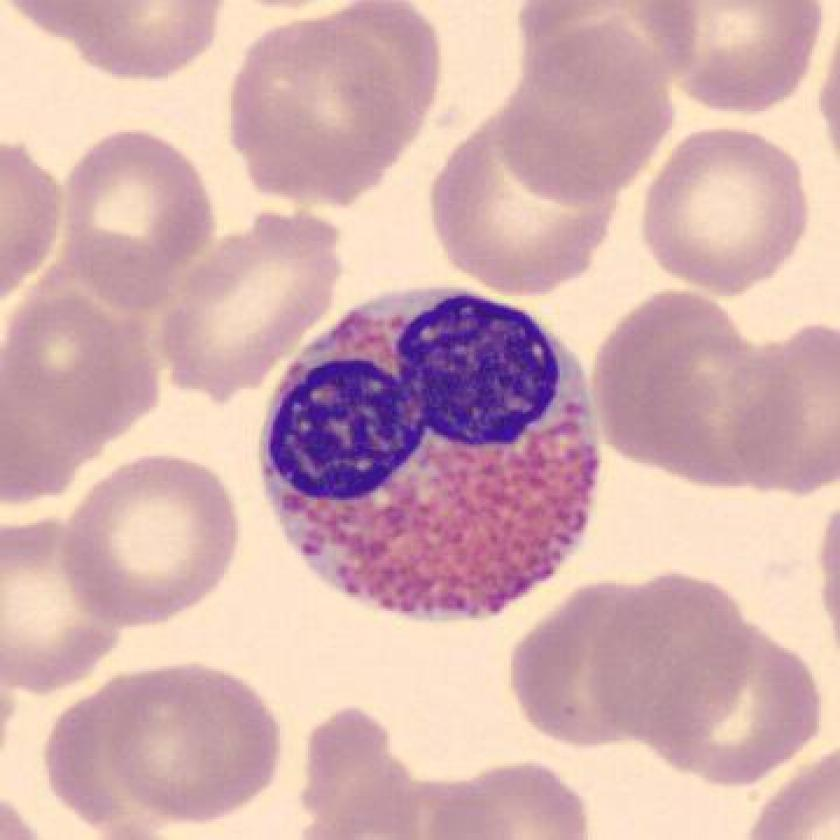eosinophil: (251, 281, 612, 628)
